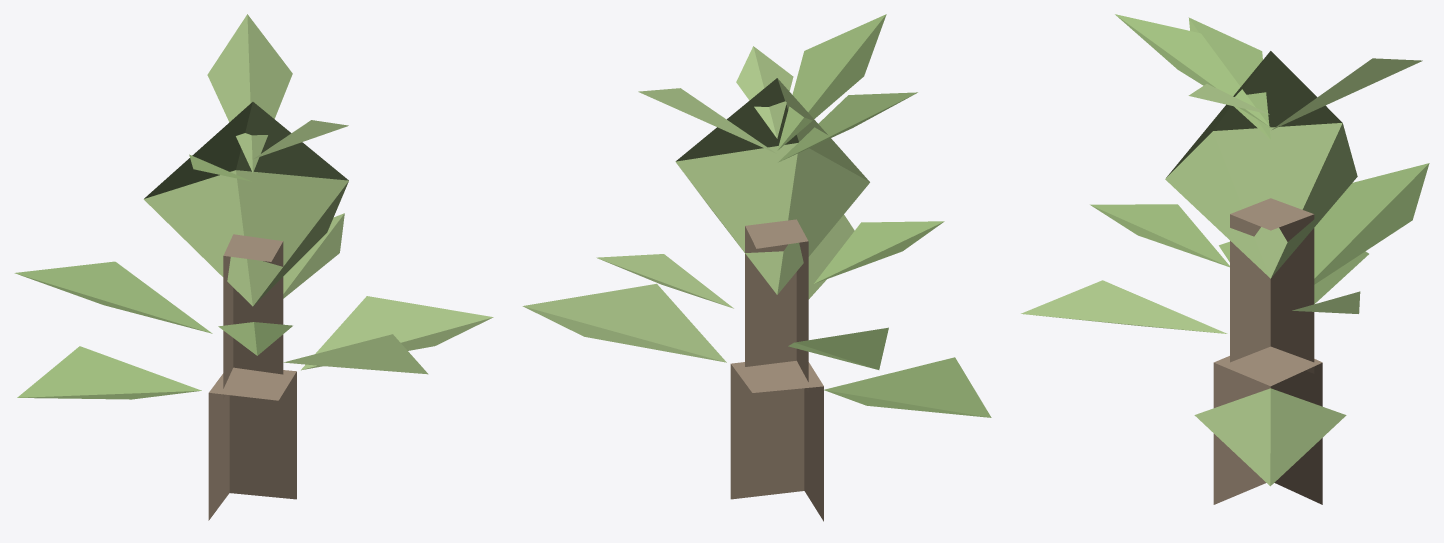
File: guan.lianqiao@seedling__bloom.glb
3 views of the same model, side by side, from view 1: azimuth 30°, elevation 25°; view 2: azimuth 150°, elevation 25°; view 3: azimuth 270°, elevation 25° (orthographic). The views are drawn at different scales.
Visible parts, largest first — view 1: guan.lianqiao@seedling__bloom; view 2: guan.lianqiao@seedling__bloom; view 3: guan.lianqiao@seedling__bloom.
Part boxes in pixels (x1=…): guan.lianqiao@seedling__bloom: x1=14, y1=14, x2=493, y2=520; guan.lianqiao@seedling__bloom: x1=522, y1=14, x2=991, y2=521; guan.lianqiao@seedling__bloom: x1=1021, y1=14, x2=1429, y2=504.
Size of the model in its own units: 0.176 by 0.1574 by 0.1218.
